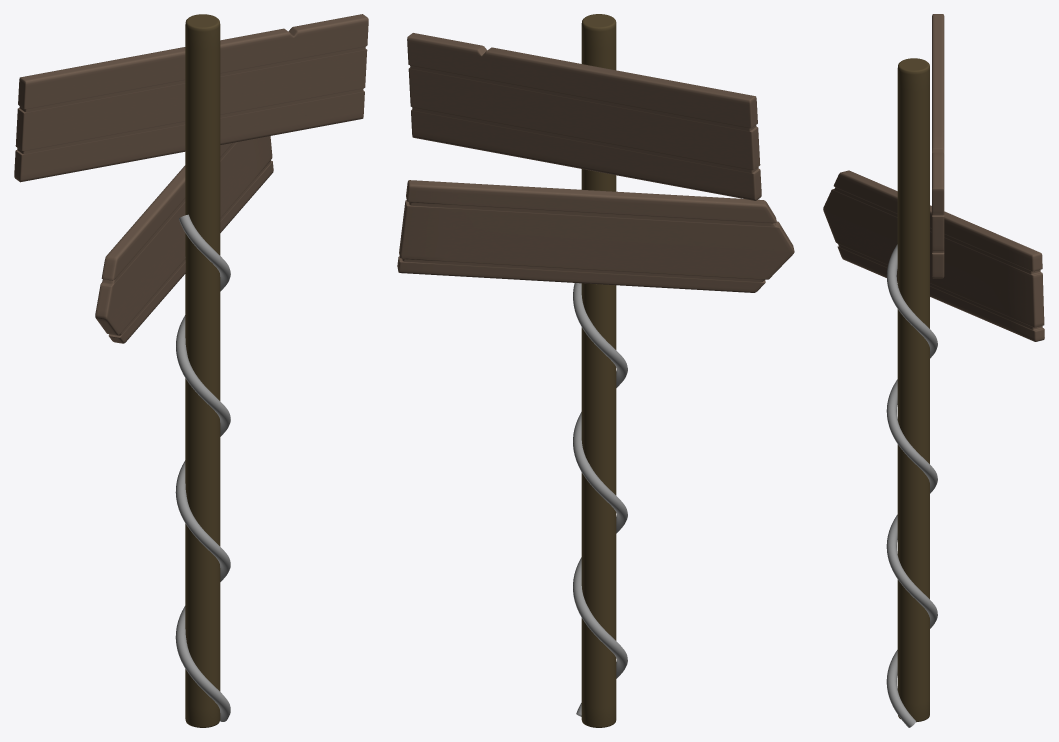
File: 白罌粟路牌.FBX
The picture shows the model from 3 angles, left to right: view 1: azimuth 30°, elevation 25°; view 2: azimuth 150°, elevation 25°; view 3: azimuth 270°, elevation 25°; orthographic projection. The views are drawn at different scales.
Visible parts, largest first — view 1: Box003, Cylinder006, Box004, Helix002; view 2: Box003, Box004, Cylinder006, Helix002; view 3: Cylinder006, Box004, Helix002, Box003.
Part boxes in pixels (box(x1,y1,x2,y2)): Box003: box(14, 14, 368, 182); Cylinder006: box(185, 14, 220, 727); Box004: box(95, 136, 273, 343); Helix002: box(175, 214, 230, 721); Box003: box(407, 33, 761, 200); Box004: box(397, 180, 794, 292); Cylinder006: box(581, 14, 616, 727); Helix002: box(573, 283, 627, 716); Cylinder006: box(897, 58, 929, 722); Box004: box(823, 170, 1044, 341); Helix002: box(886, 244, 937, 727); Box003: box(932, 14, 944, 278).
Bounding box in the file's own units: 18.24 × 35.16 × 10.8.
Materials: 3 (2 with a texture image).
